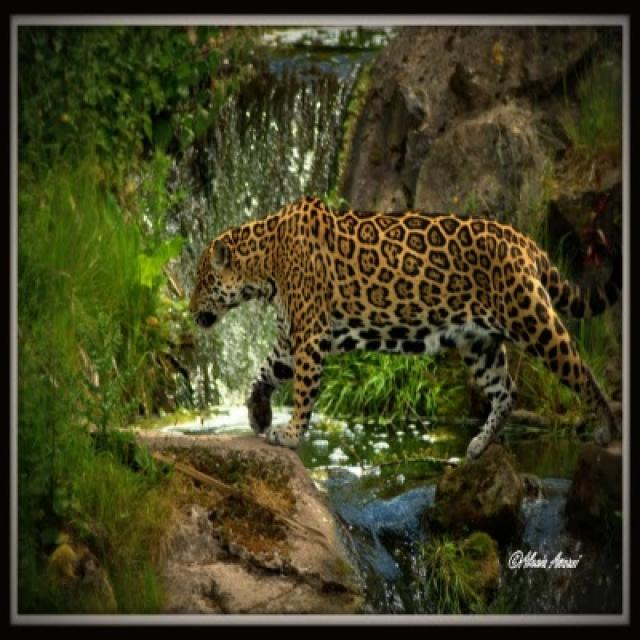Jaguar: (190, 197, 614, 462)
